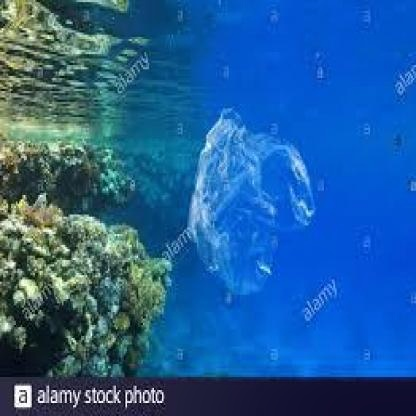pbag: (186, 106, 318, 297)
